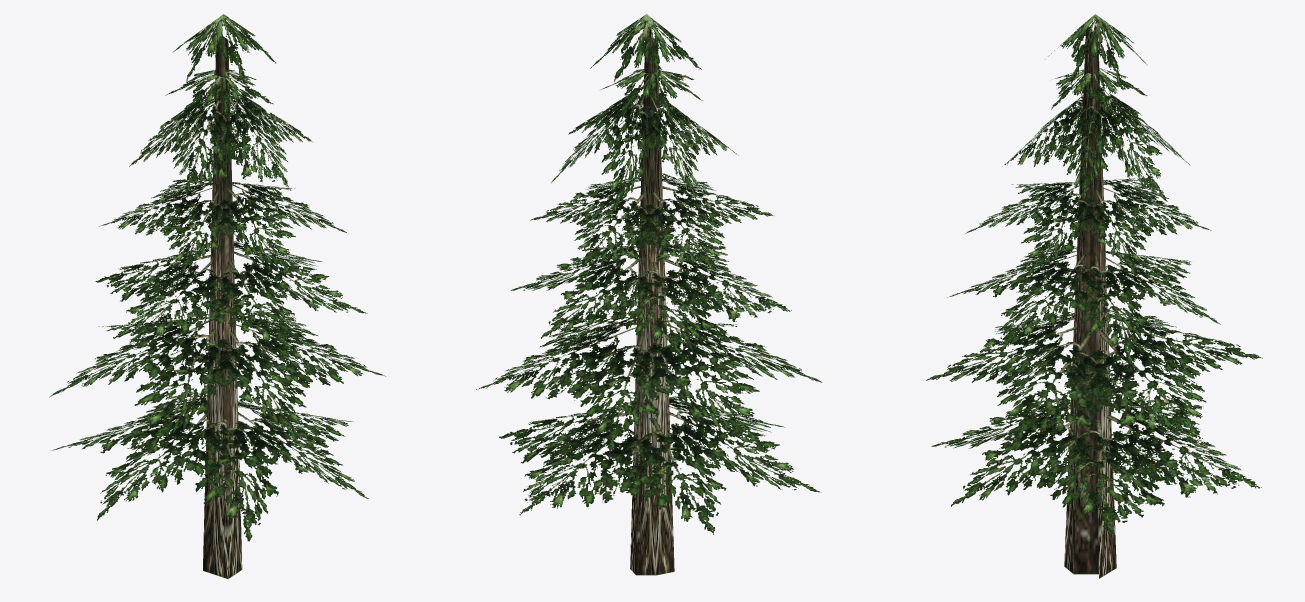
File: tree_pine_04.dae
3 views of the same model, side by side, from view 1: azimuth 30°, elevation 25°; view 2: azimuth 150°, elevation 25°; view 3: azimuth 270°, elevation 25° (orthographic).
Parts seen in each view (by area): view 1: Object007; view 2: Object007; view 3: Object007.
Boxes of the visible parts, <box> form: Object007: <box>49,14,385,578</box>; Object007: <box>476,14,822,575</box>; Object007: <box>926,14,1262,578</box>.
Bounding box in the file's own units: 15.88 × 23.86 × 15.2.
